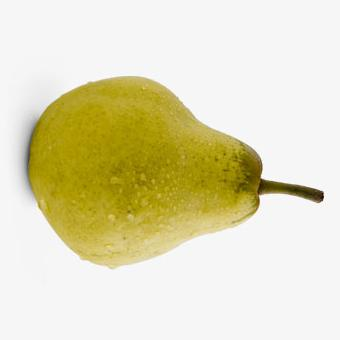pear: (0, 0, 340, 340)
